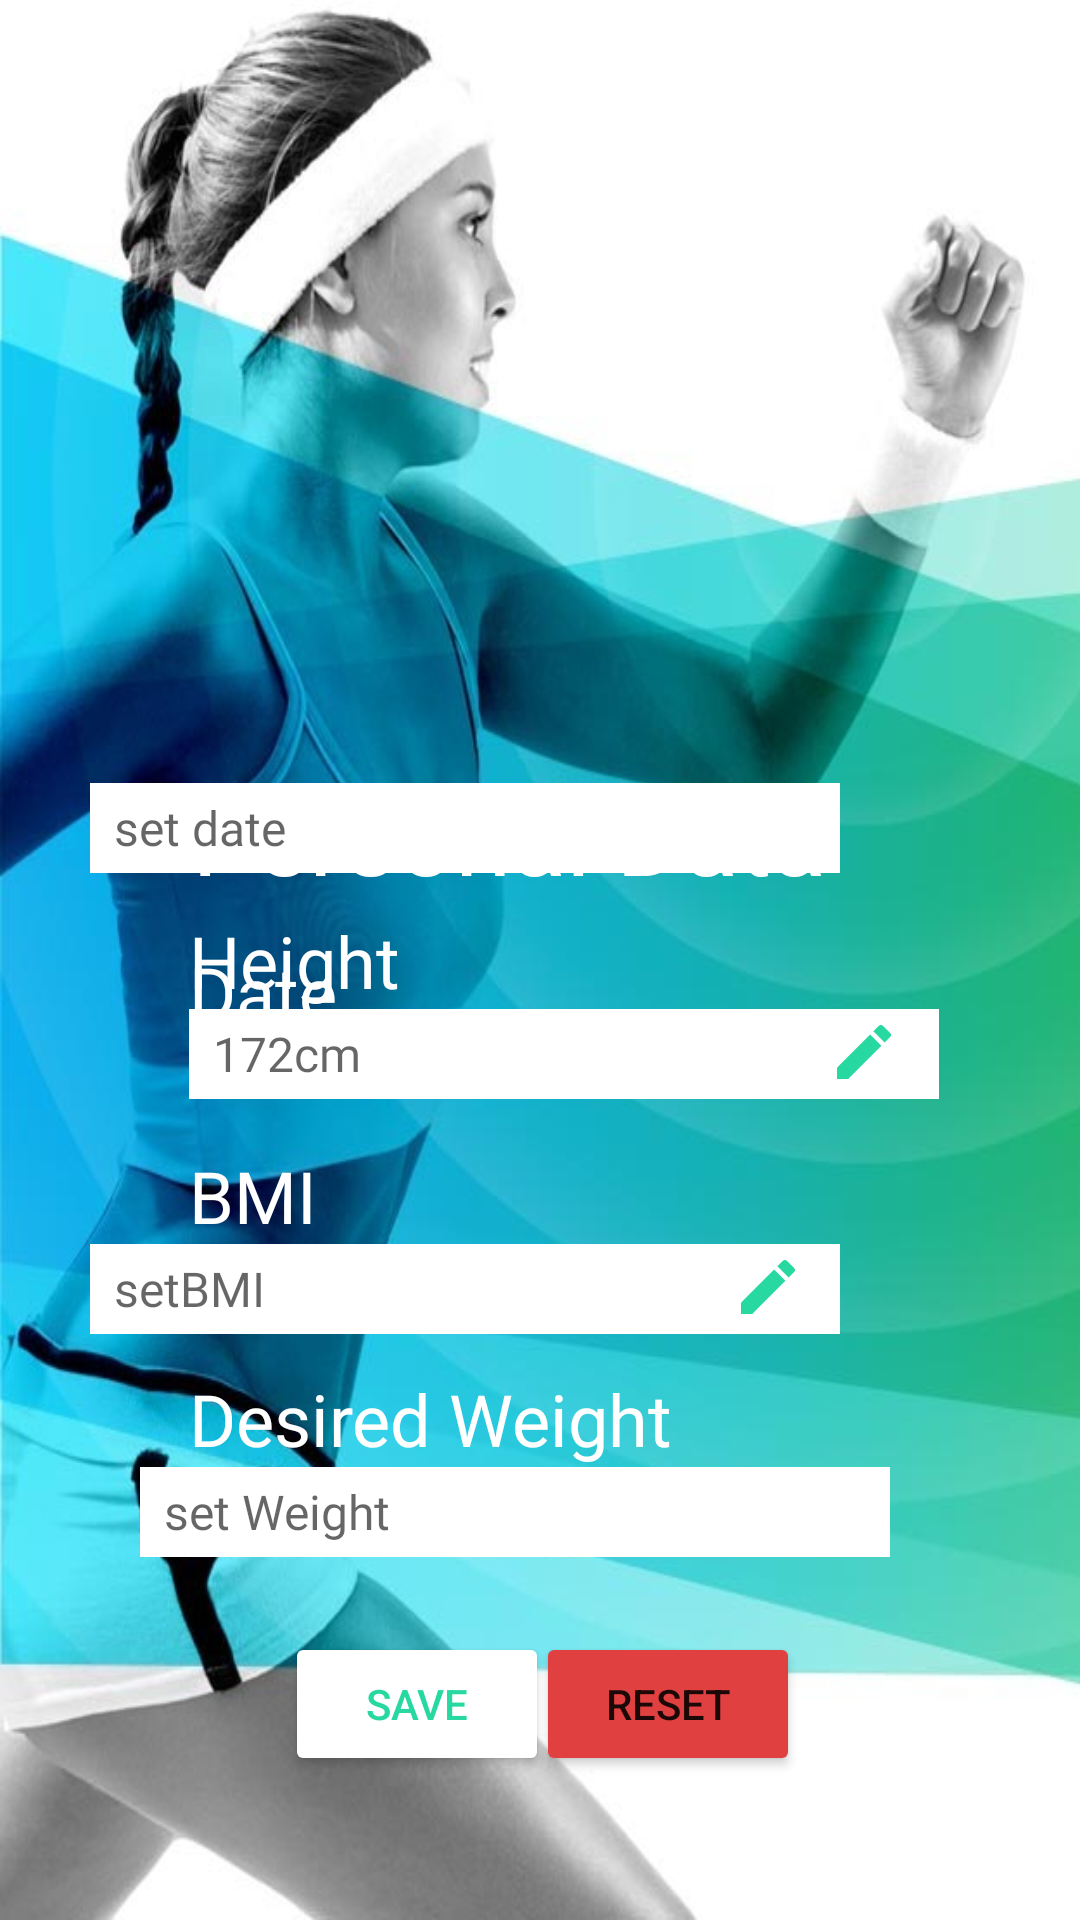

Screen size 1080w x 1920h. Icon name, then its box in pixels as (x1, y1, x2, y2):
editbtn: (837, 1025, 891, 1079), (741, 1260, 795, 1314)
